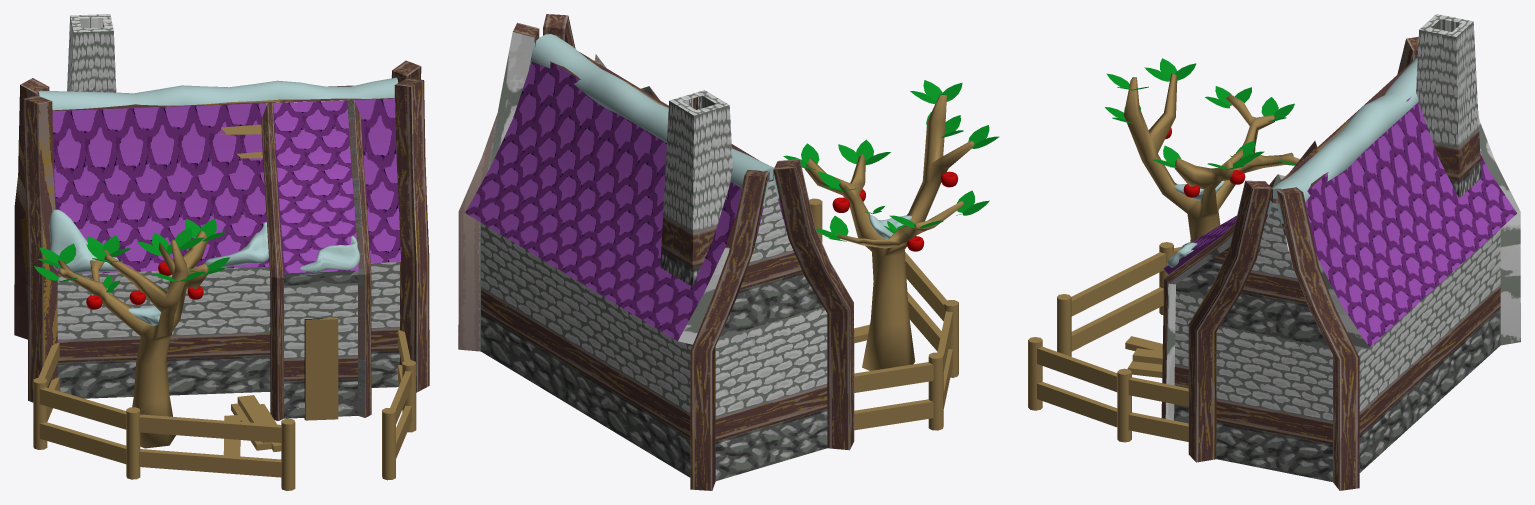
File: ElfFarm.fbx
The picture shows the model from 3 angles, left to right: view 1: azimuth 30°, elevation 25°; view 2: azimuth 150°, elevation 25°; view 3: azimuth 270°, elevation 25°; orthographic projection. The views are drawn at different scales.
Parts seen in each view (by area): view 1: House, Wood, BUILDhouse, Snow, LeafFruit, Door, Chimney, BUILDWood, BUILDPlanks; view 2: House, Wood, BUILDhouse, Chimney, Snow, LeafFruit; view 3: House, Wood, BUILDhouse, Chimney, Snow, LeafFruit, BUILDWood.
Boxes of the visible parts, x1,y1,x2,y2 form: House: [14, 60, 429, 420]; Wood: [33, 230, 416, 490]; BUILDhouse: [14, 61, 429, 420]; Snow: [38, 77, 398, 325]; LeafFruit: [34, 218, 230, 309]; Door: [305, 318, 338, 420]; Chimney: [67, 14, 116, 92]; BUILDWood: [223, 395, 281, 456]; BUILDPlanks: [220, 124, 262, 158]; House: [458, 14, 854, 490]; Wood: [804, 94, 974, 430]; BUILDhouse: [458, 14, 854, 490]; Chimney: [660, 90, 732, 286]; Snow: [530, 34, 911, 239]; LeafFruit: [783, 80, 999, 251]; House: [1161, 37, 1520, 490]; Wood: [1028, 73, 1299, 442]; BUILDhouse: [1162, 37, 1520, 481]; Chimney: [1416, 14, 1481, 198]; Snow: [1167, 57, 1418, 267]; LeafFruit: [1105, 58, 1295, 197]; BUILDWood: [1125, 336, 1162, 377].
Size of what is drawn, in the model's own units: 5559 by 5671 by 4169.
Materials: 7 (2 with a texture image).
